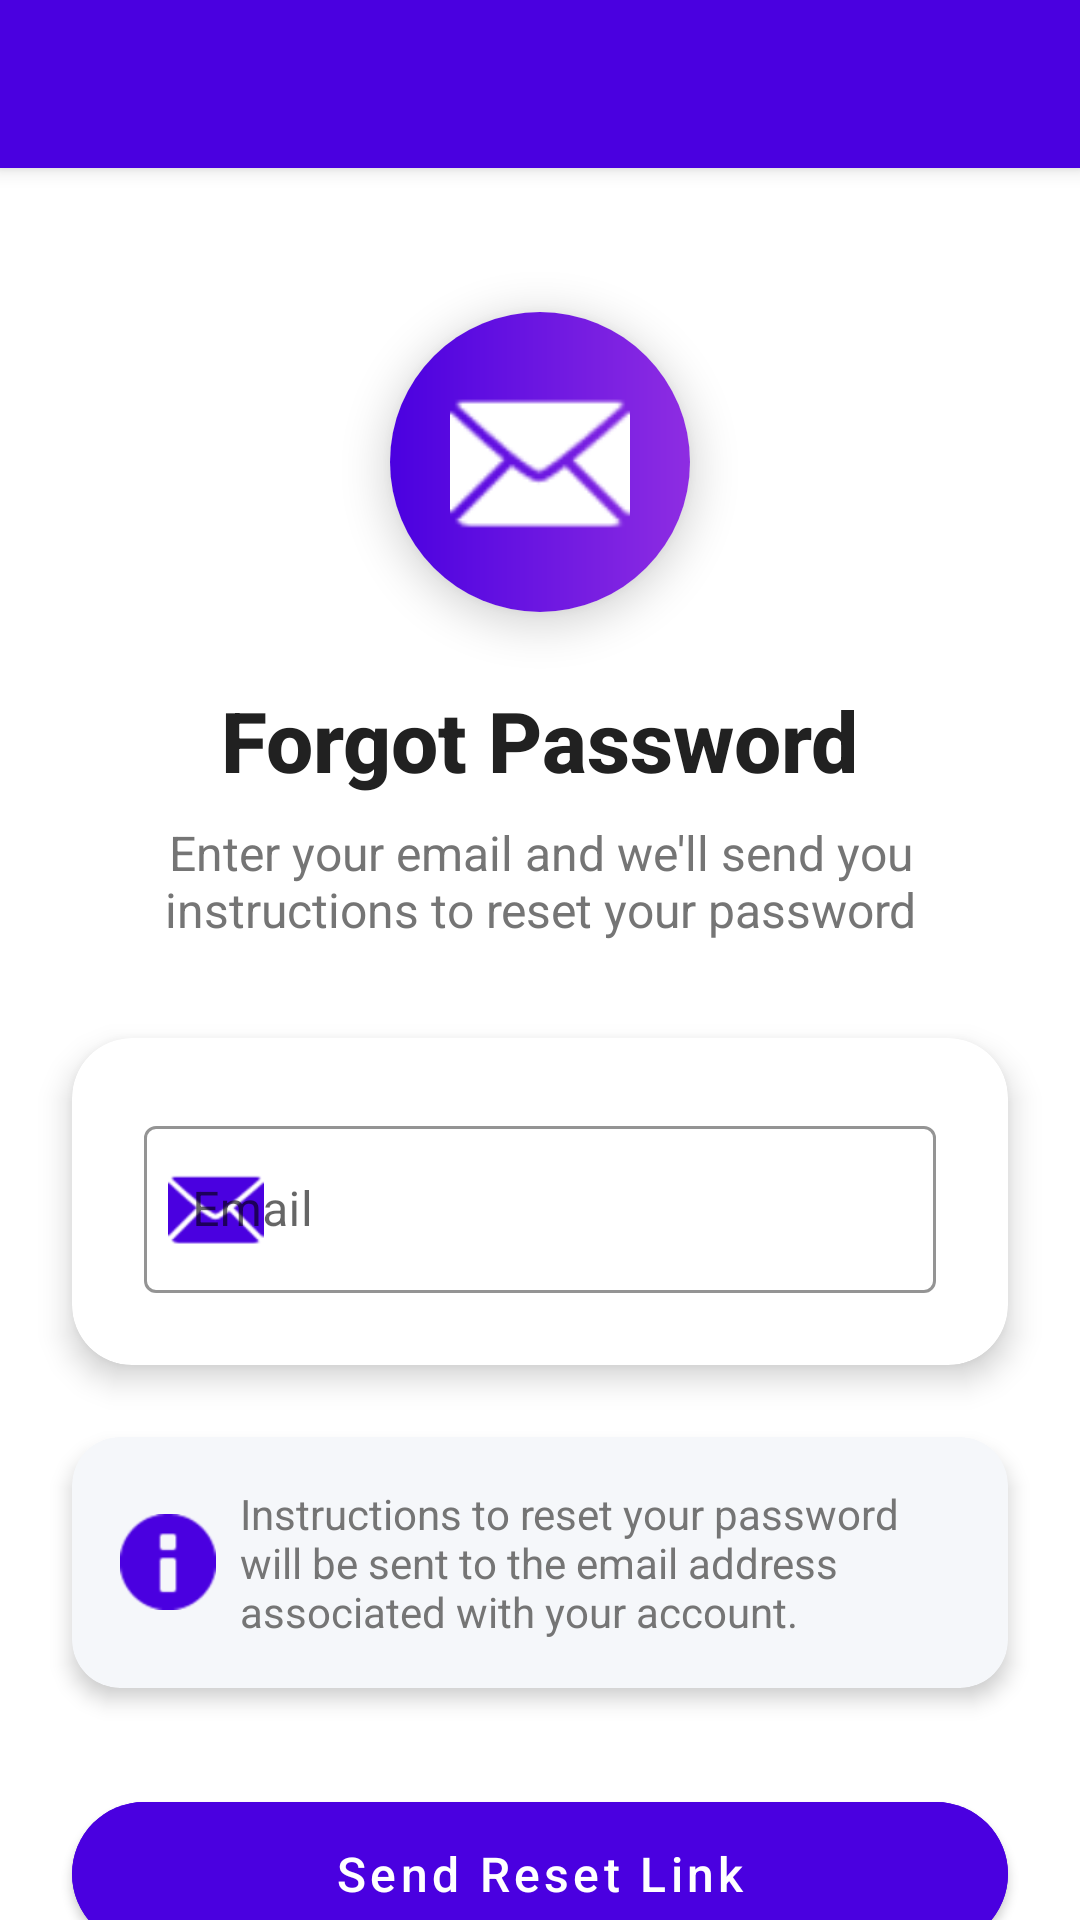

Icons on this 1080w x 1920h Android screen, each with the point to tap as (x,y):
email: (540,462)
